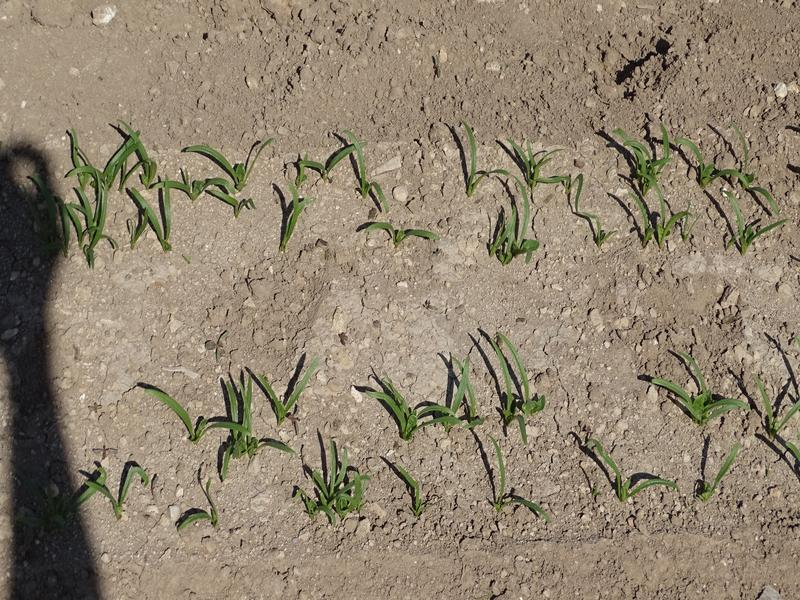Espinaca: (30, 118, 257, 262), (136, 356, 324, 464), (279, 136, 441, 250), (624, 136, 788, 246), (363, 332, 543, 431), (448, 131, 562, 253), (650, 340, 740, 421), (585, 435, 683, 508), (298, 441, 375, 520), (484, 439, 552, 519), (76, 463, 154, 513), (754, 379, 800, 454), (568, 168, 609, 247), (700, 443, 743, 502), (178, 480, 226, 528), (396, 462, 426, 515)
